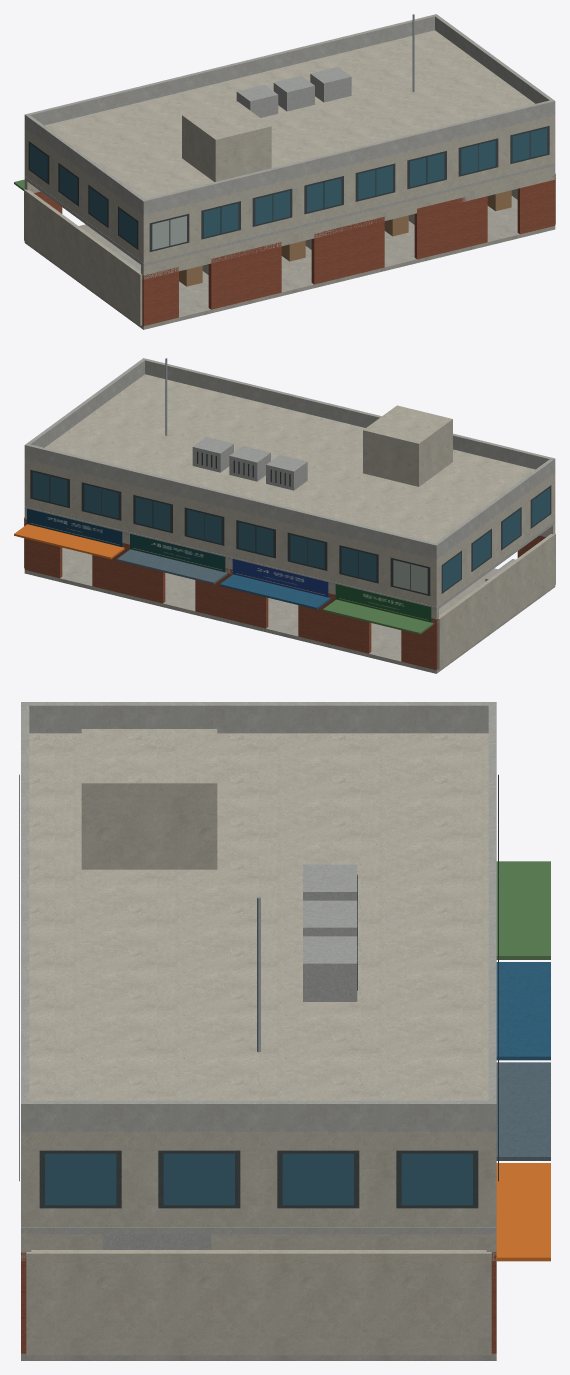
File: retail_row.glb
3 renders of one model, top to bottom at view 1: azimuth 30°, elevation 25°; view 2: azimuth 150°, elevation 25°; view 3: azimuth 270°, elevation 25°, orthographic. The views are drawn at different scales.
Parts seen in each view (by area): view 1: retail_row; view 2: retail_row; view 3: retail_row.
Part boxes in pixels (x1,y1,x2,y2): retail_row: (14,14,555,329); retail_row: (14,358,555,673); retail_row: (19,702,550,1360).
Bounding box in the file's own units: 28.25 × 12.44 × 15.66.
